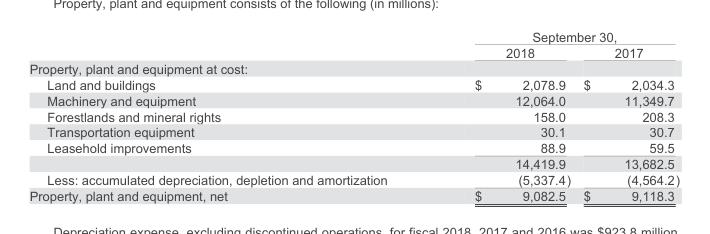table: (28, 29, 679, 203)
table column: (28, 29, 430, 203), (430, 29, 576, 203), (576, 29, 679, 203)
table column header: (28, 29, 679, 60)
table projected row header: (28, 60, 679, 76)
table row: (28, 44, 679, 60), (28, 60, 679, 76), (28, 76, 679, 92), (28, 92, 679, 108), (28, 123, 679, 139), (28, 139, 679, 155), (28, 155, 679, 171), (28, 171, 679, 187), (28, 187, 679, 203), (28, 29, 679, 44), (28, 108, 679, 123)
table spanning cell: (430, 29, 679, 44)
